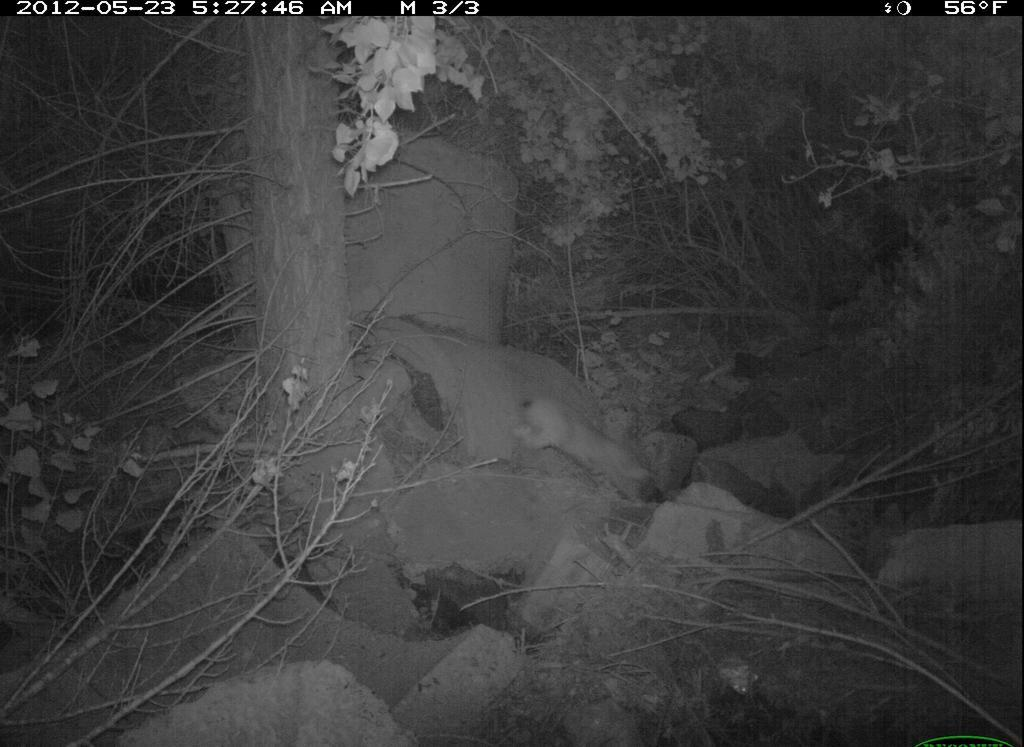bobcat: (495, 388, 675, 529)
